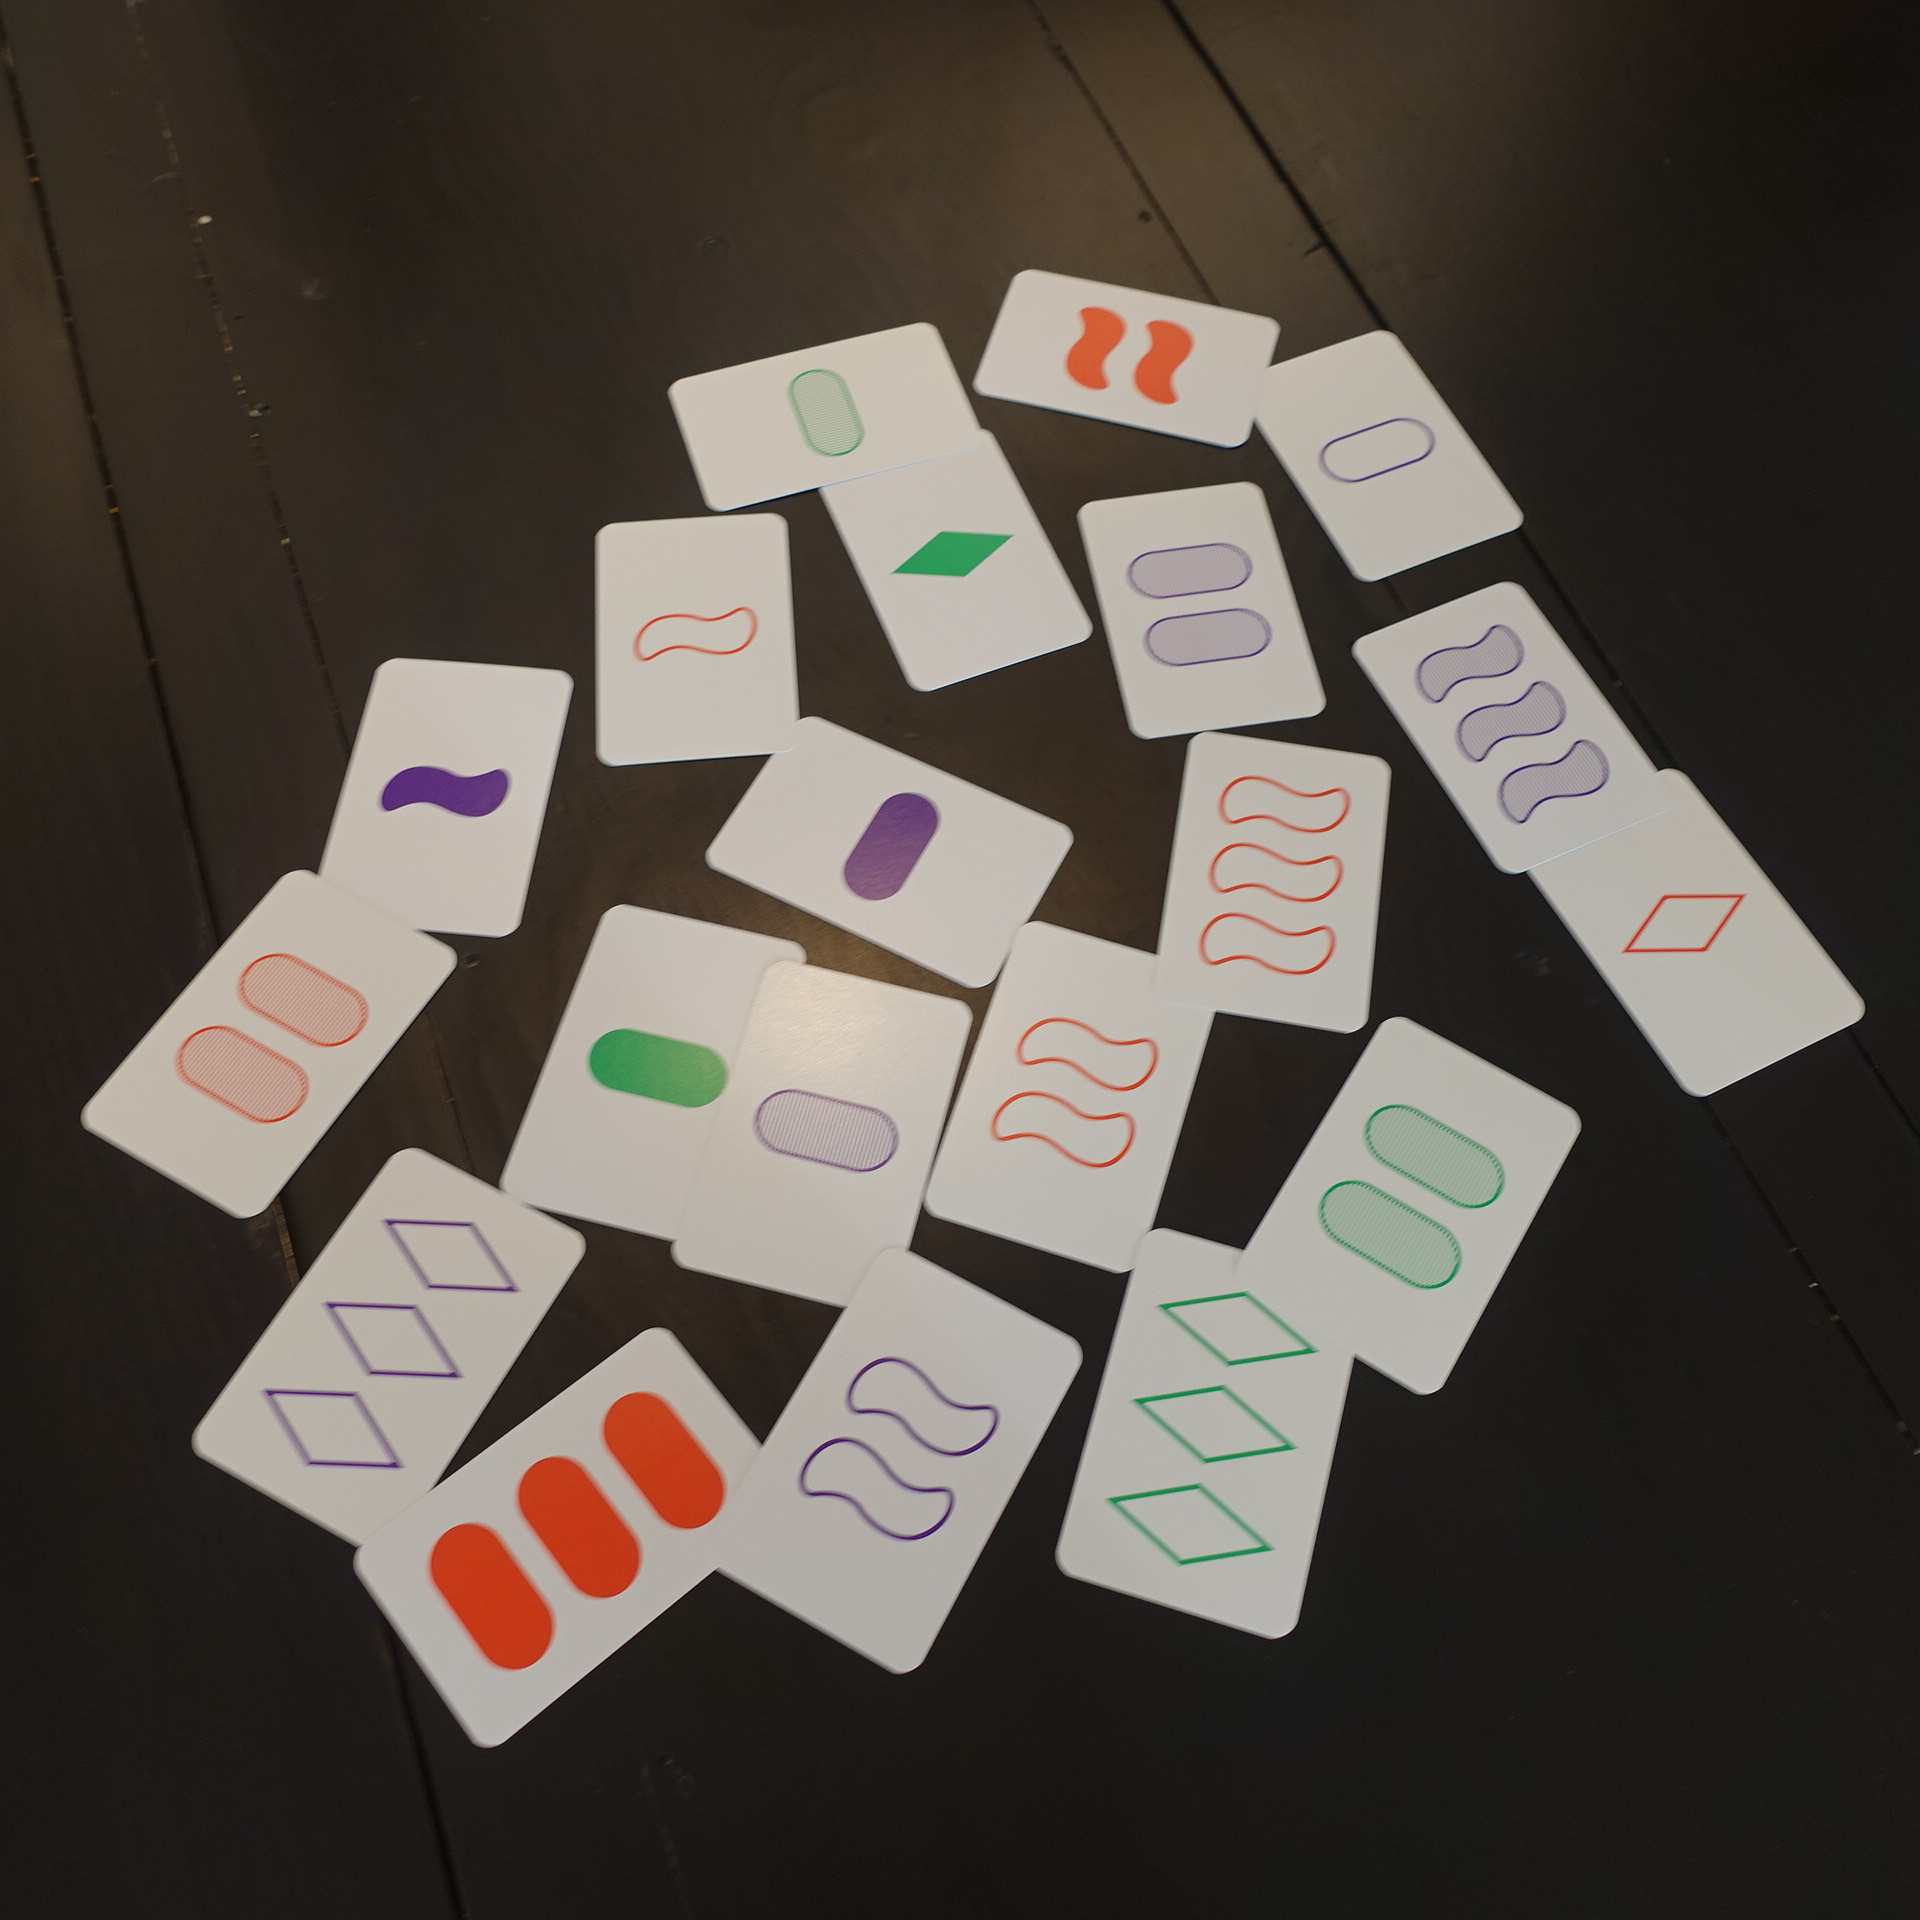c-2-f-d-r: (343, 1322, 784, 1751), (714, 1241, 1088, 1691), (183, 1143, 591, 1549), (69, 856, 462, 1224), (1231, 1004, 1589, 1405), (1046, 1217, 1378, 1646), (1519, 760, 1874, 1106), (670, 948, 976, 1338), (498, 893, 812, 1255), (920, 913, 1227, 1280), (700, 712, 1081, 993), (1347, 573, 1683, 883), (1136, 717, 1403, 1043), (807, 427, 1102, 705), (304, 652, 578, 949), (1243, 324, 1531, 591), (1067, 473, 1336, 751), (965, 257, 1289, 459), (663, 316, 983, 519), (580, 505, 812, 772)
